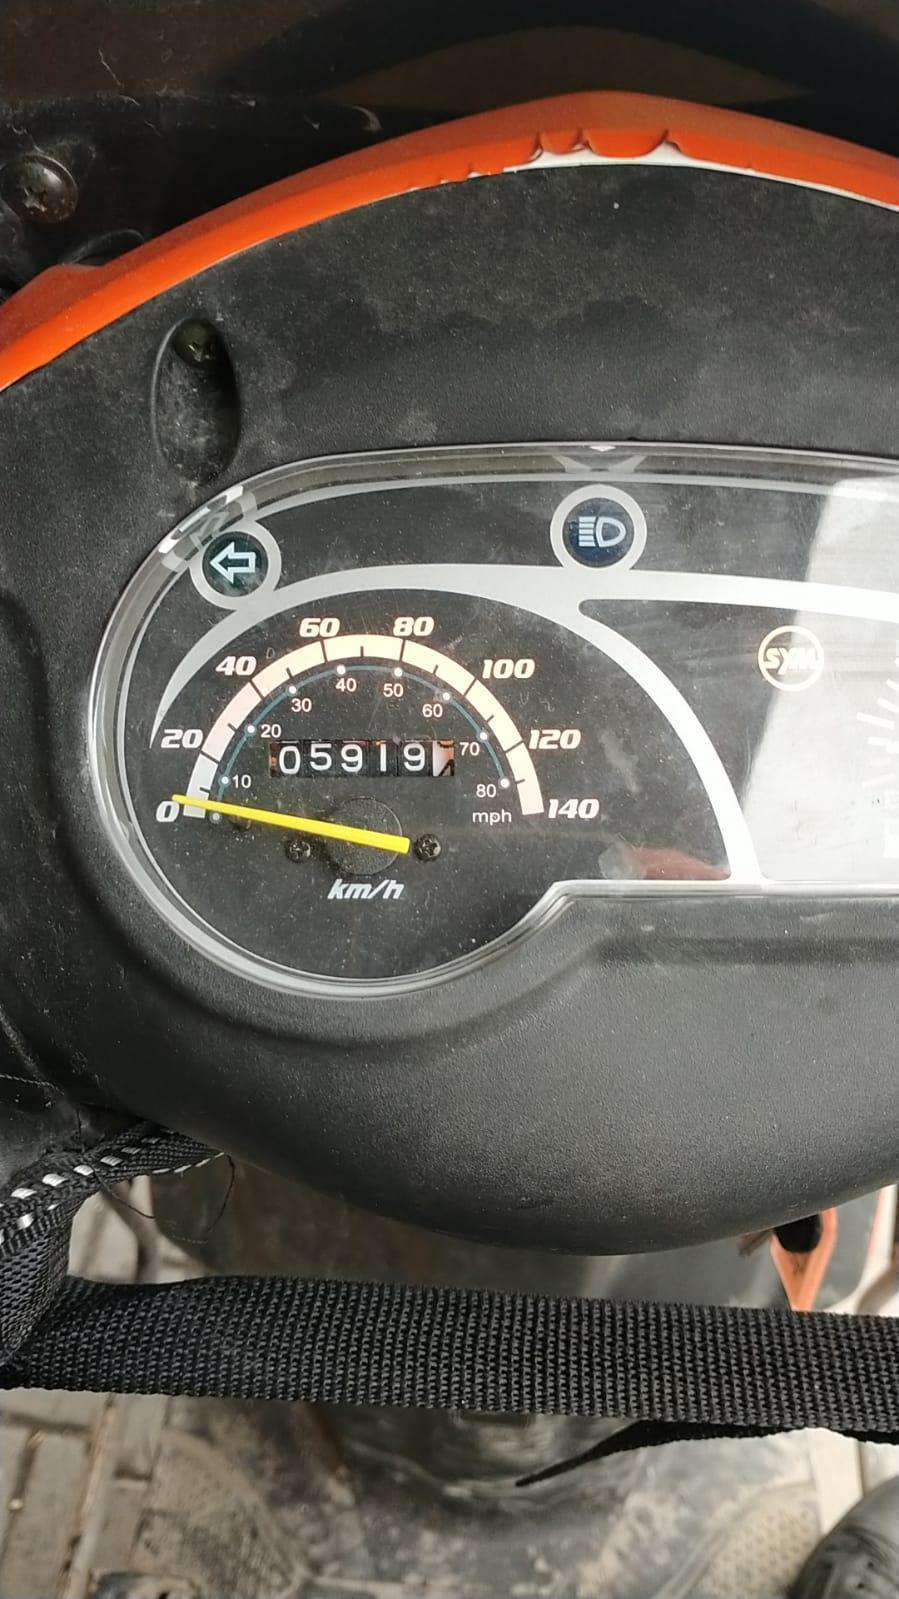0: (277, 743, 302, 772)
1: (377, 737, 390, 775)
4: (434, 754, 456, 778)
5: (310, 740, 334, 771)
9: (339, 740, 366, 775), (401, 741, 426, 775)
odometer: (267, 737, 457, 779)
